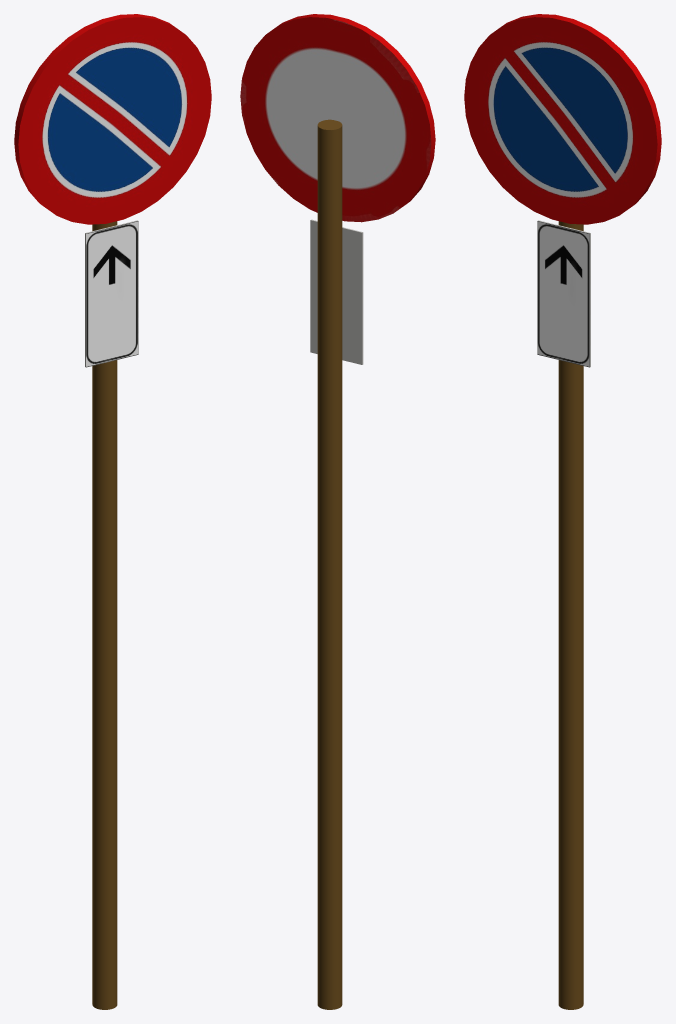
File: noParking.glb
3 views of the same model, side by side, from view 1: azimuth 30°, elevation 25°; view 2: azimuth 150°, elevation 25°; view 3: azimuth 330°, elevation 25° (orthographic).
Parts seen in each view (by area): view 1: NoParking.002, Pole.002, SignageContinuation.002; view 2: NoParking.002, Pole.002, SignageContinuation.002; view 3: NoParking.002, Pole.002, SignageContinuation.002.
Boxes of the visible parts, bbox=[...] form: NoParking.002: bbox=[14, 14, 211, 224]; Pole.002: bbox=[92, 221, 117, 1009]; SignageContinuation.002: bbox=[85, 220, 138, 367]; NoParking.002: bbox=[240, 14, 435, 222]; Pole.002: bbox=[317, 119, 342, 1009]; SignageContinuation.002: bbox=[310, 219, 363, 364]; NoParking.002: bbox=[464, 14, 661, 224]; Pole.002: bbox=[558, 221, 583, 1009]; SignageContinuation.002: bbox=[537, 220, 590, 367].
Size of the model in its own units: 0.043 by 0.2107 by 0.00634.
Materials: 3 (2 with a texture image).
